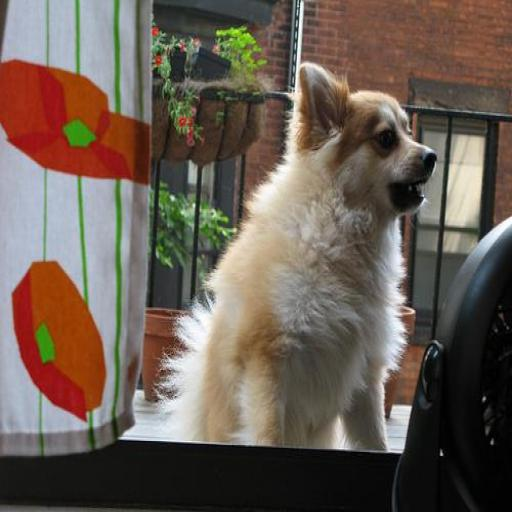dog_face: (298, 72, 444, 222)
